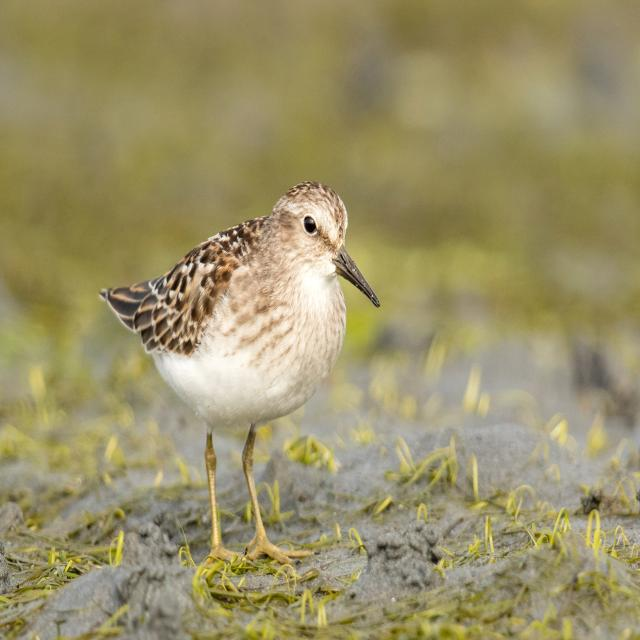Sandpiper: (110, 174, 383, 557)
